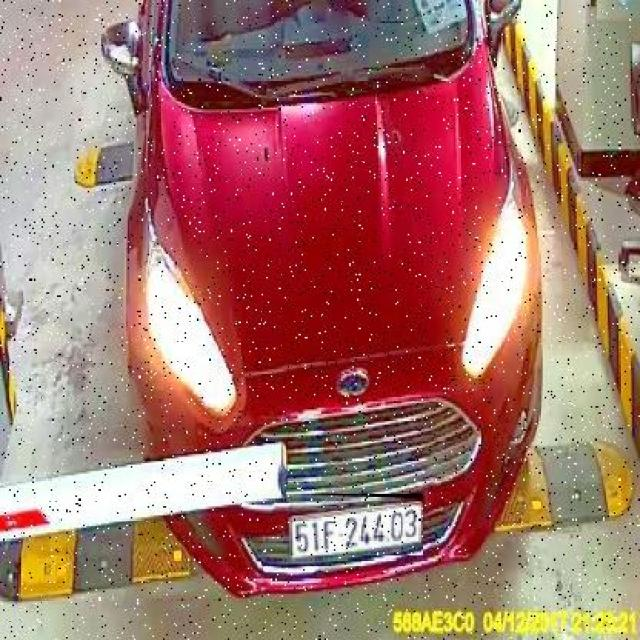number_plate: (291, 494, 423, 555)
